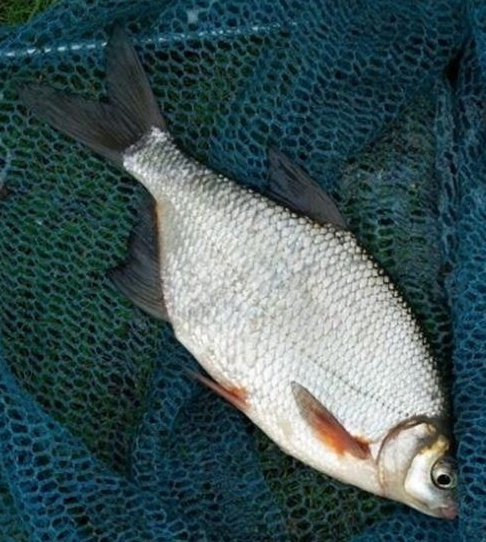Blicca bjoerkna: (20, 20, 466, 522)
